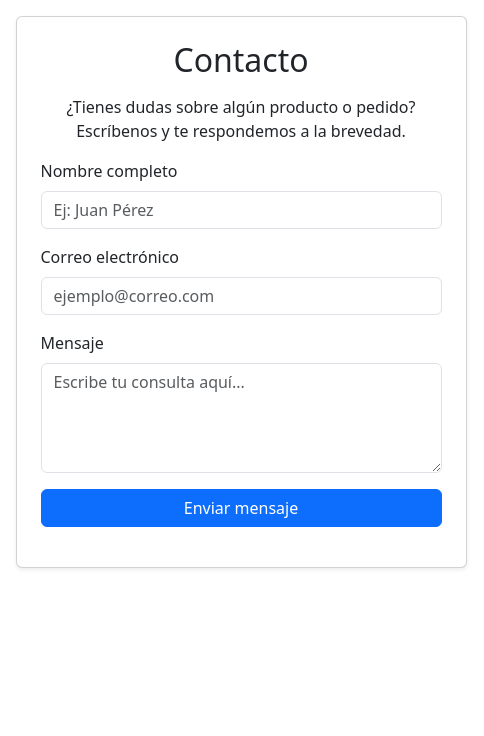
Scenario: ContactForm › muestra los tres errores y el aviso si se envía vacío
Click the button "Enviar mensaje" at (241, 508), box [40,489,442,527]
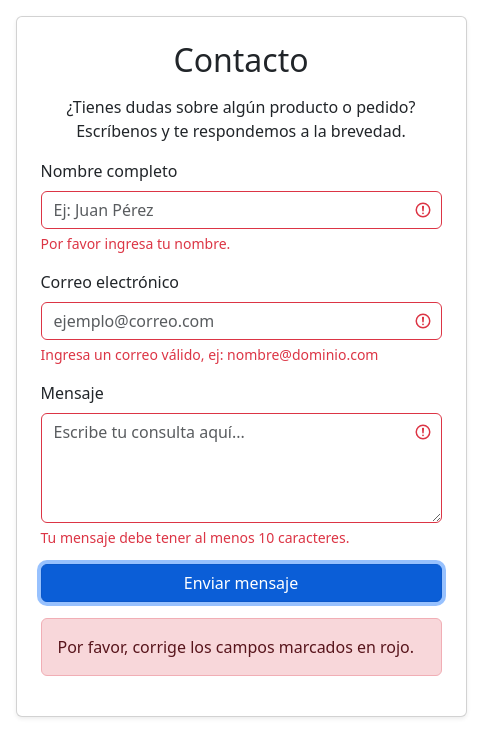
Now the text "Por favor ingresa tu nombre." is shown, box [40,234,230,253]
Now the text "Ingresa un correo válido, ej: nombre@dominio.com" is shown, box [40,345,378,364]
Now the text "Tu mensaje debe tener al menos 10 caracteres." is shown, box [40,528,350,547]
